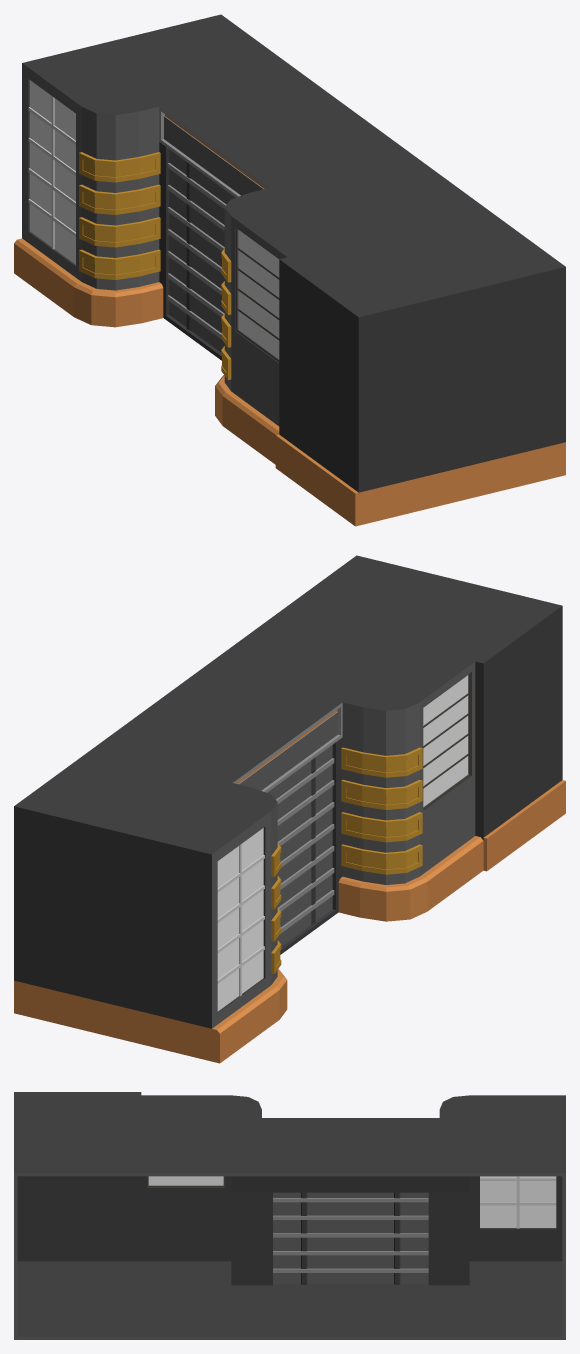
The model's file is Store_02.FBX.
3 views of the same model, one above another, from view 1: azimuth 30°, elevation 25°; view 2: azimuth 150°, elevation 25°; view 3: azimuth 270°, elevation 25° (orthographic). The views are drawn at different scales.
Parts seen in each view (by area): view 1: Store_02_LOD0, Store_02_Shutter_LOD0; view 2: Store_02_LOD0, Store_02_Shutter_LOD0; view 3: Store_02_LOD0, Store_02_Shutter_LOD0.
Boxes of the visible parts, x1,y1,x2,y2 form: Store_02_LOD0: [14, 14, 565, 526]; Store_02_Shutter_LOD0: [167, 149, 235, 352]; Store_02_LOD0: [14, 555, 565, 1063]; Store_02_Shutter_LOD0: [267, 745, 334, 946]; Store_02_LOD0: [14, 1092, 565, 1339]; Store_02_Shutter_LOD0: [273, 1192, 428, 1284].
Size of what is drawn, in the model's own units: 190 by 180 by 540.
